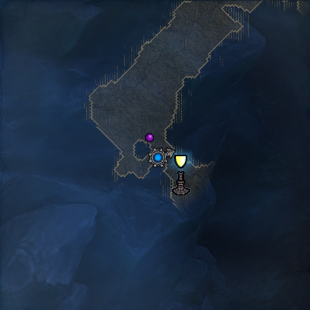ShieldPylon: (172, 153, 190, 196)
